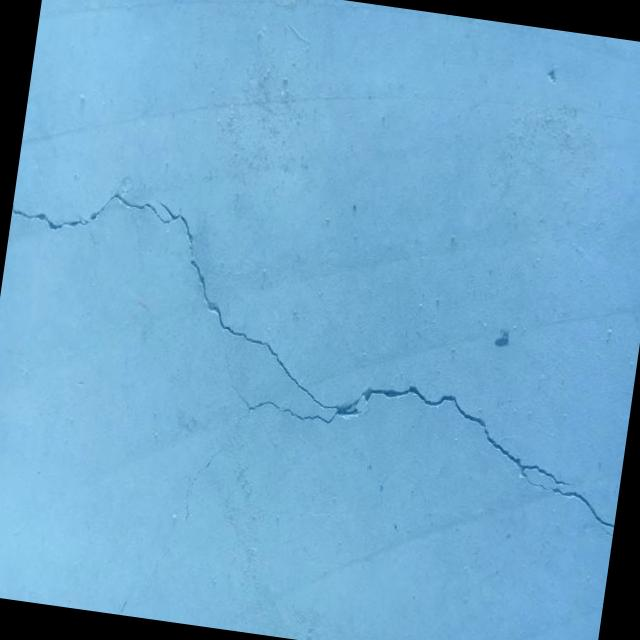crack: (0, 178, 640, 589), (118, 574, 155, 619), (150, 546, 170, 579), (600, 526, 614, 538), (364, 405, 371, 416)
